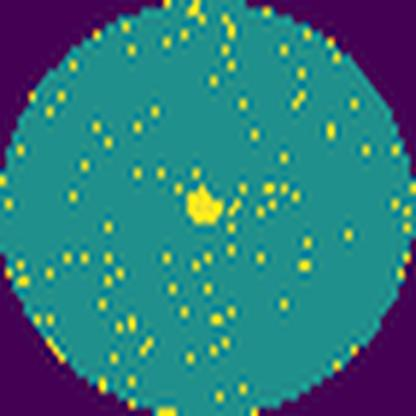Center: (186, 184, 226, 224)
